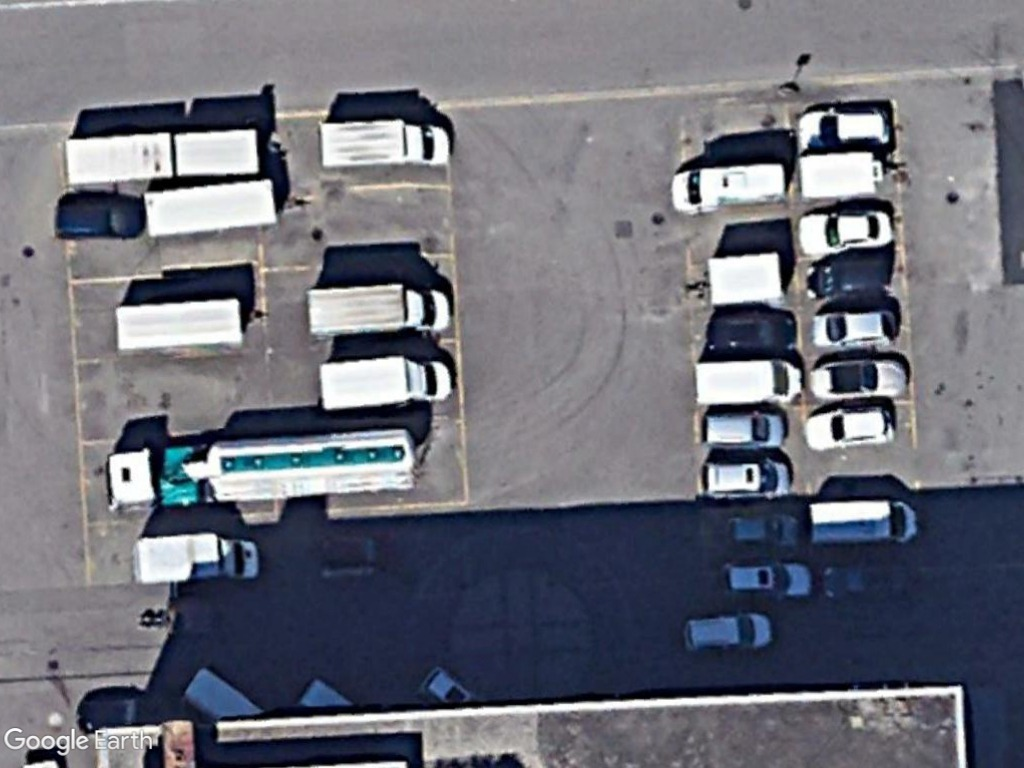car: (795, 206, 896, 259), (796, 106, 893, 156), (690, 459, 795, 505), (802, 404, 897, 453), (680, 609, 774, 657), (806, 305, 901, 350), (719, 559, 813, 604), (701, 405, 791, 450)
truck: (315, 354, 453, 415), (305, 284, 449, 339), (315, 117, 455, 172), (130, 534, 262, 588)
van: (667, 159, 787, 215), (692, 356, 805, 408), (805, 497, 920, 548)
